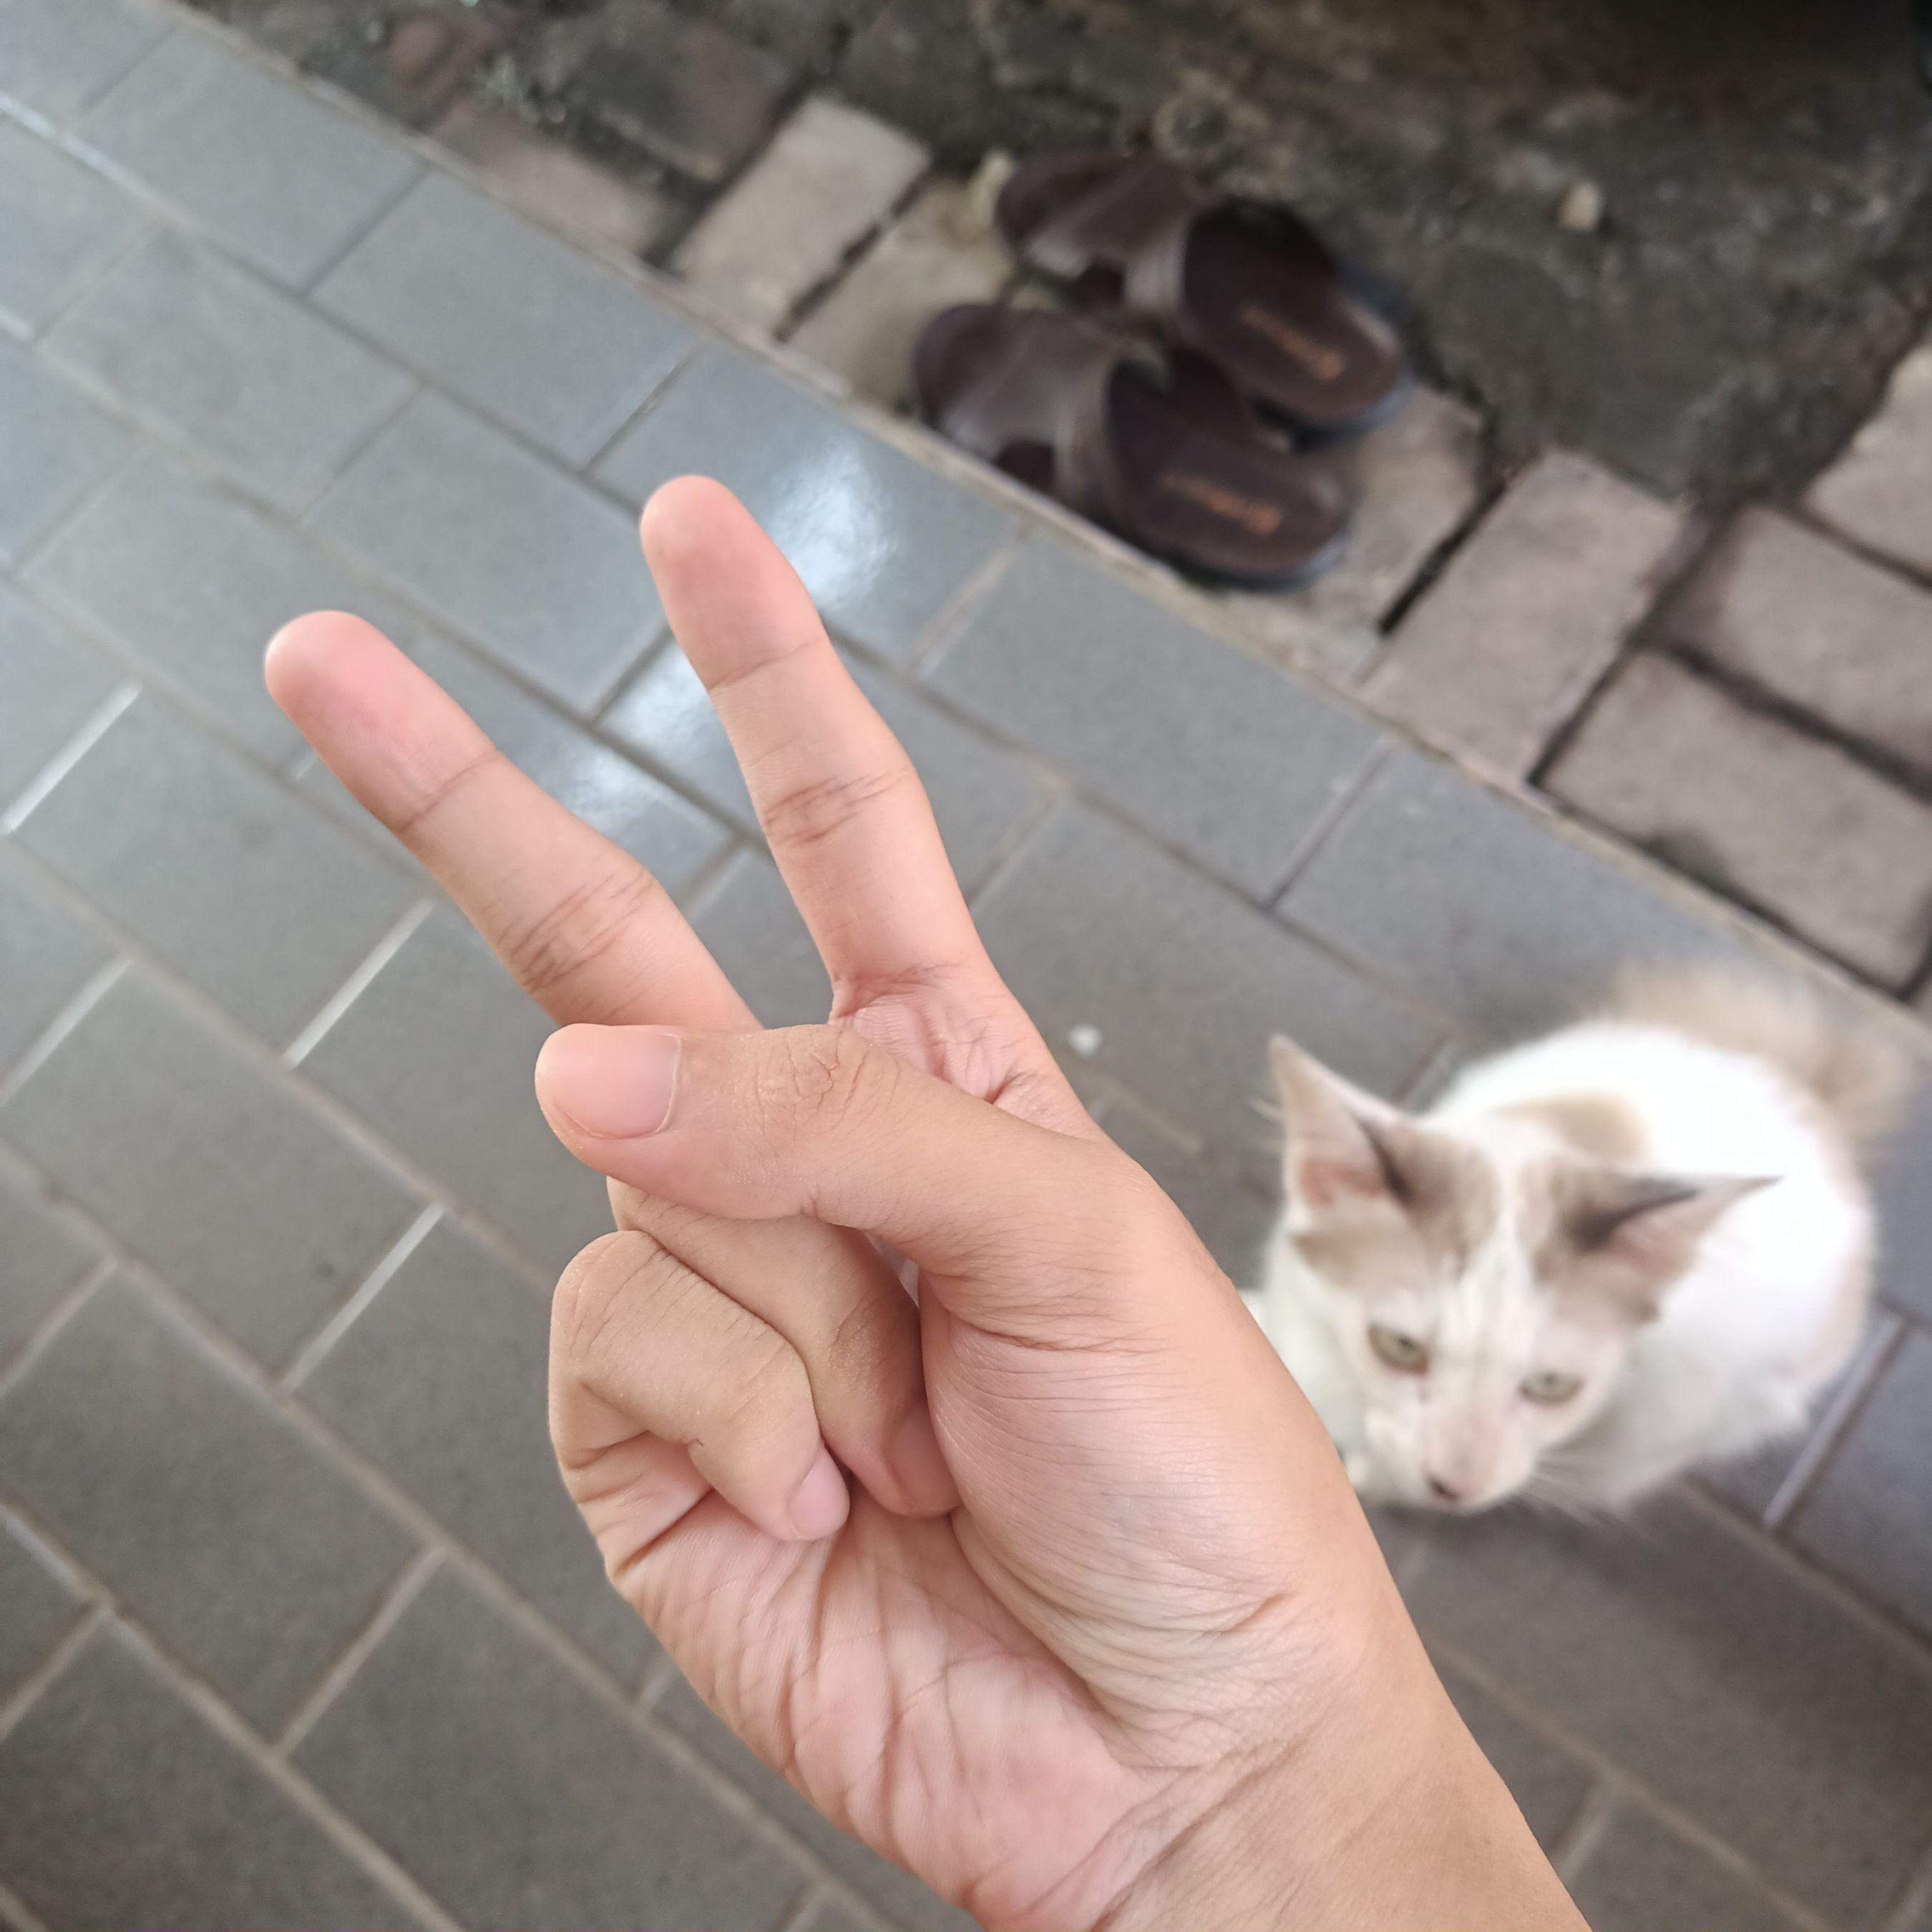scissors: (249, 451, 1417, 1909)
